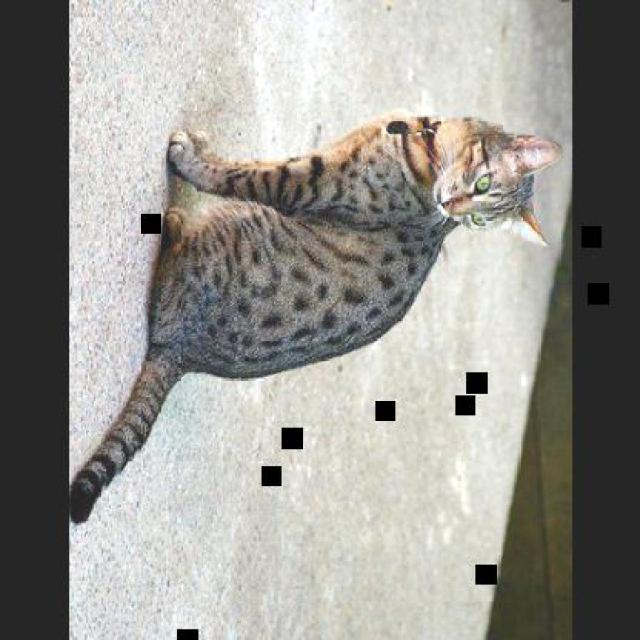unauthorized: (69, 109, 562, 523)
